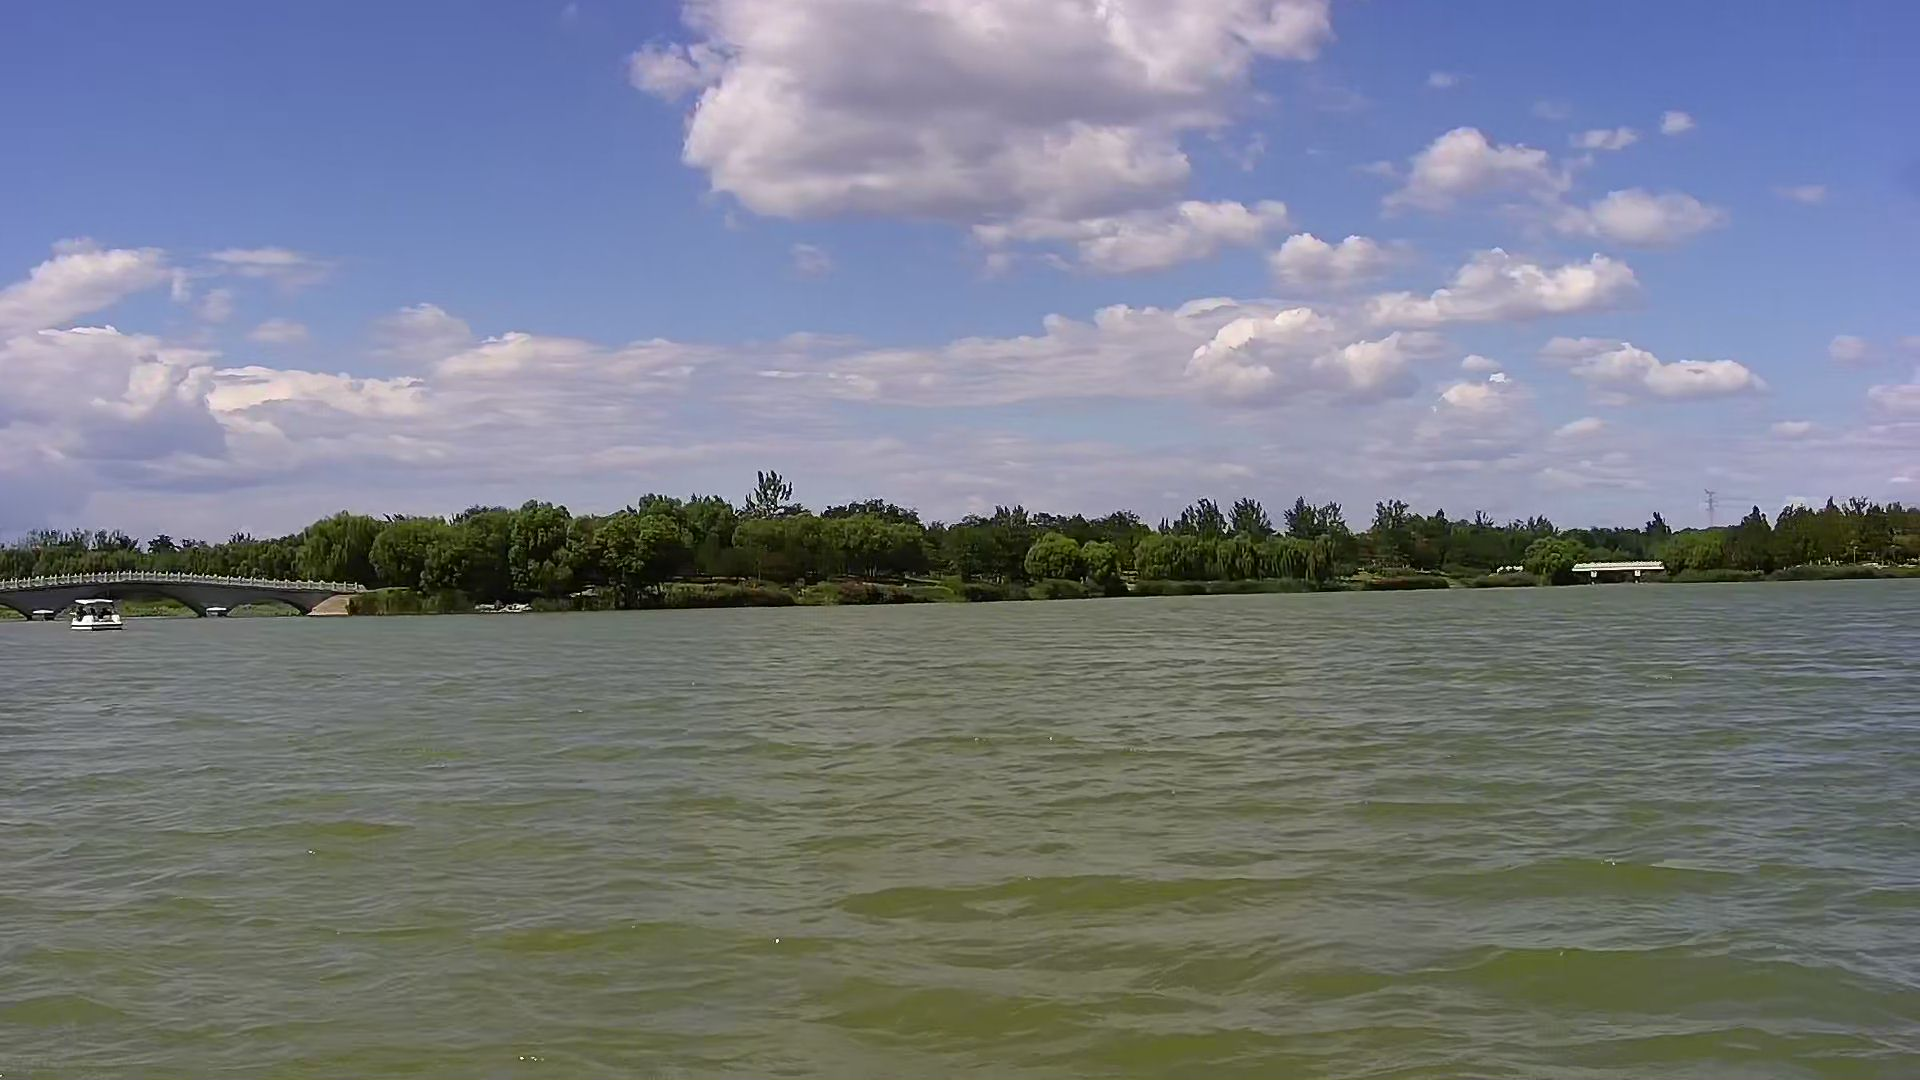boat: (61, 585, 135, 640)
bridge: (5, 560, 371, 620)
